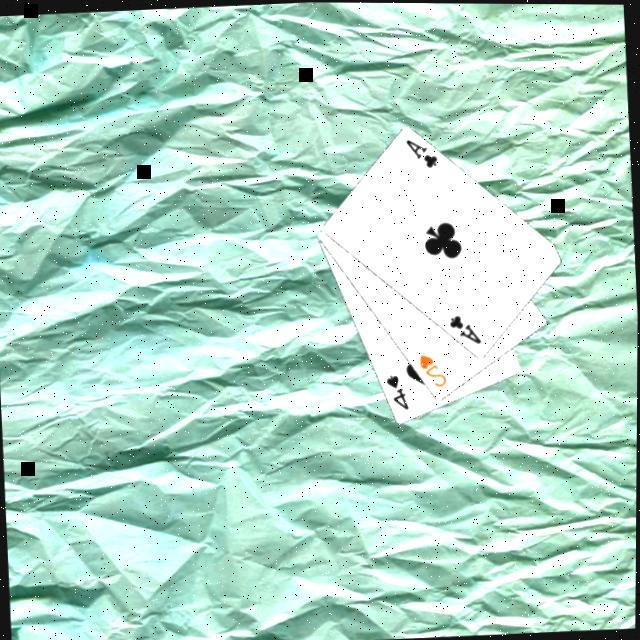2H: (417, 348, 452, 390)
4S: (384, 370, 414, 413)
AC: (447, 309, 487, 347), (403, 133, 443, 171)
